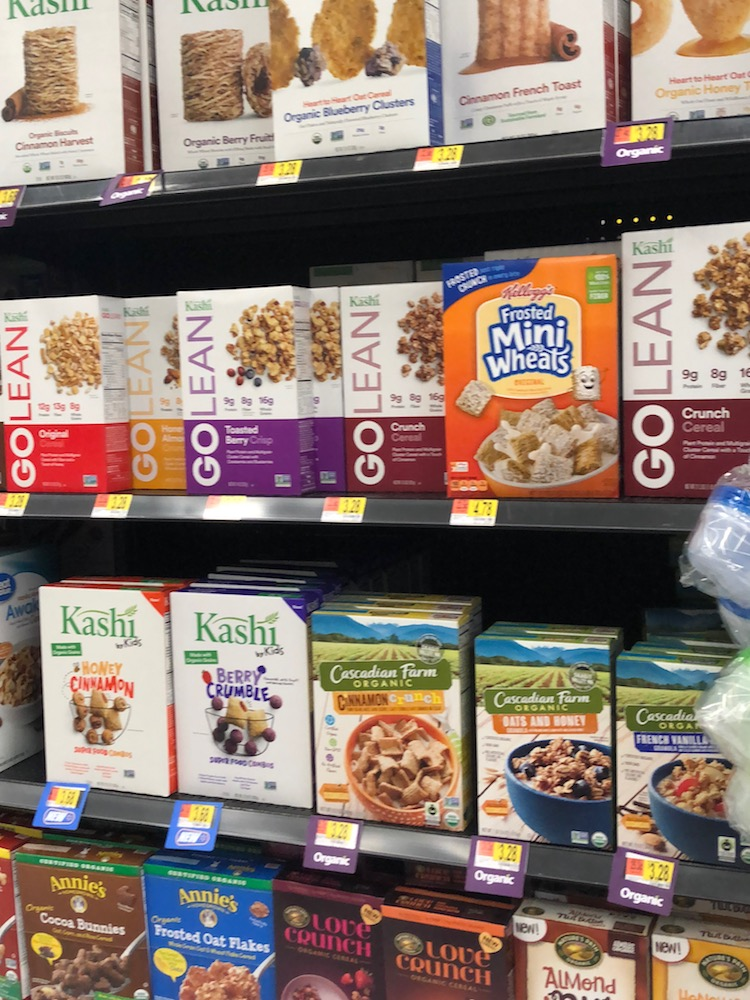Frosted Mini Original -9295869: (449, 282, 624, 500)
